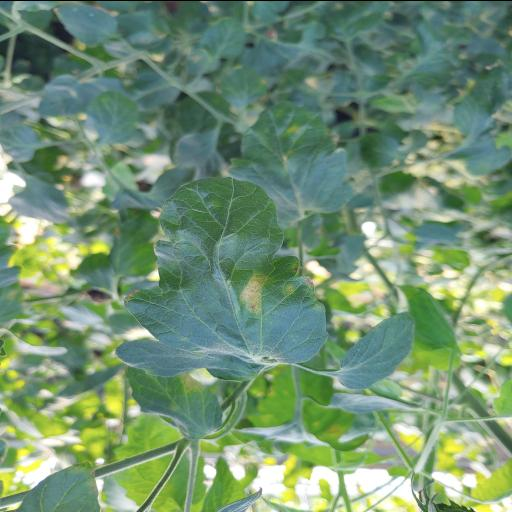disease_tomato: (113, 176, 331, 380)
